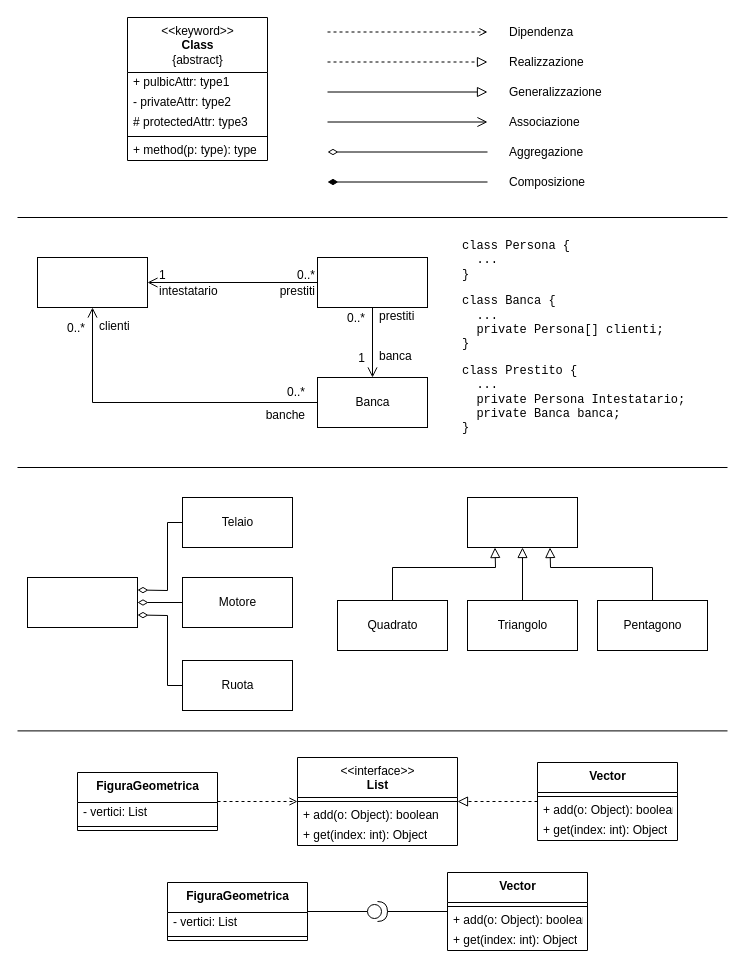
Some shapes in this 746 by 968 pixel diagram are drawn without their labels. Each missing label, with the centre of its shape:
"Automobile" goes at (82,602).
"Figura" goes at (522,522).
"List" goes at (377,911).
"Persona" goes at (92,282).
"Prestito" goes at (372,282).
